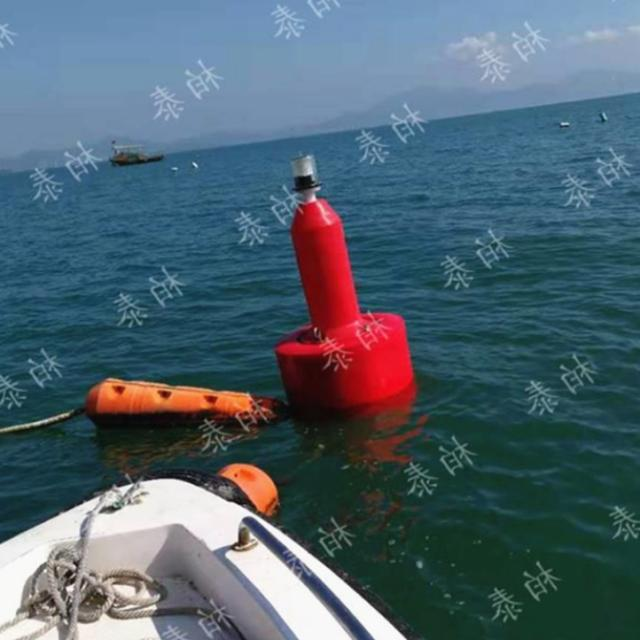buoy: (269, 151, 416, 417)
